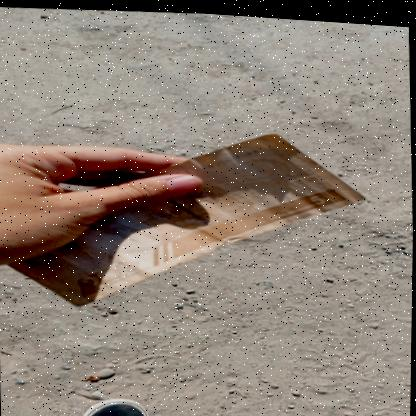five-back-vef: (0, 111, 372, 322)
